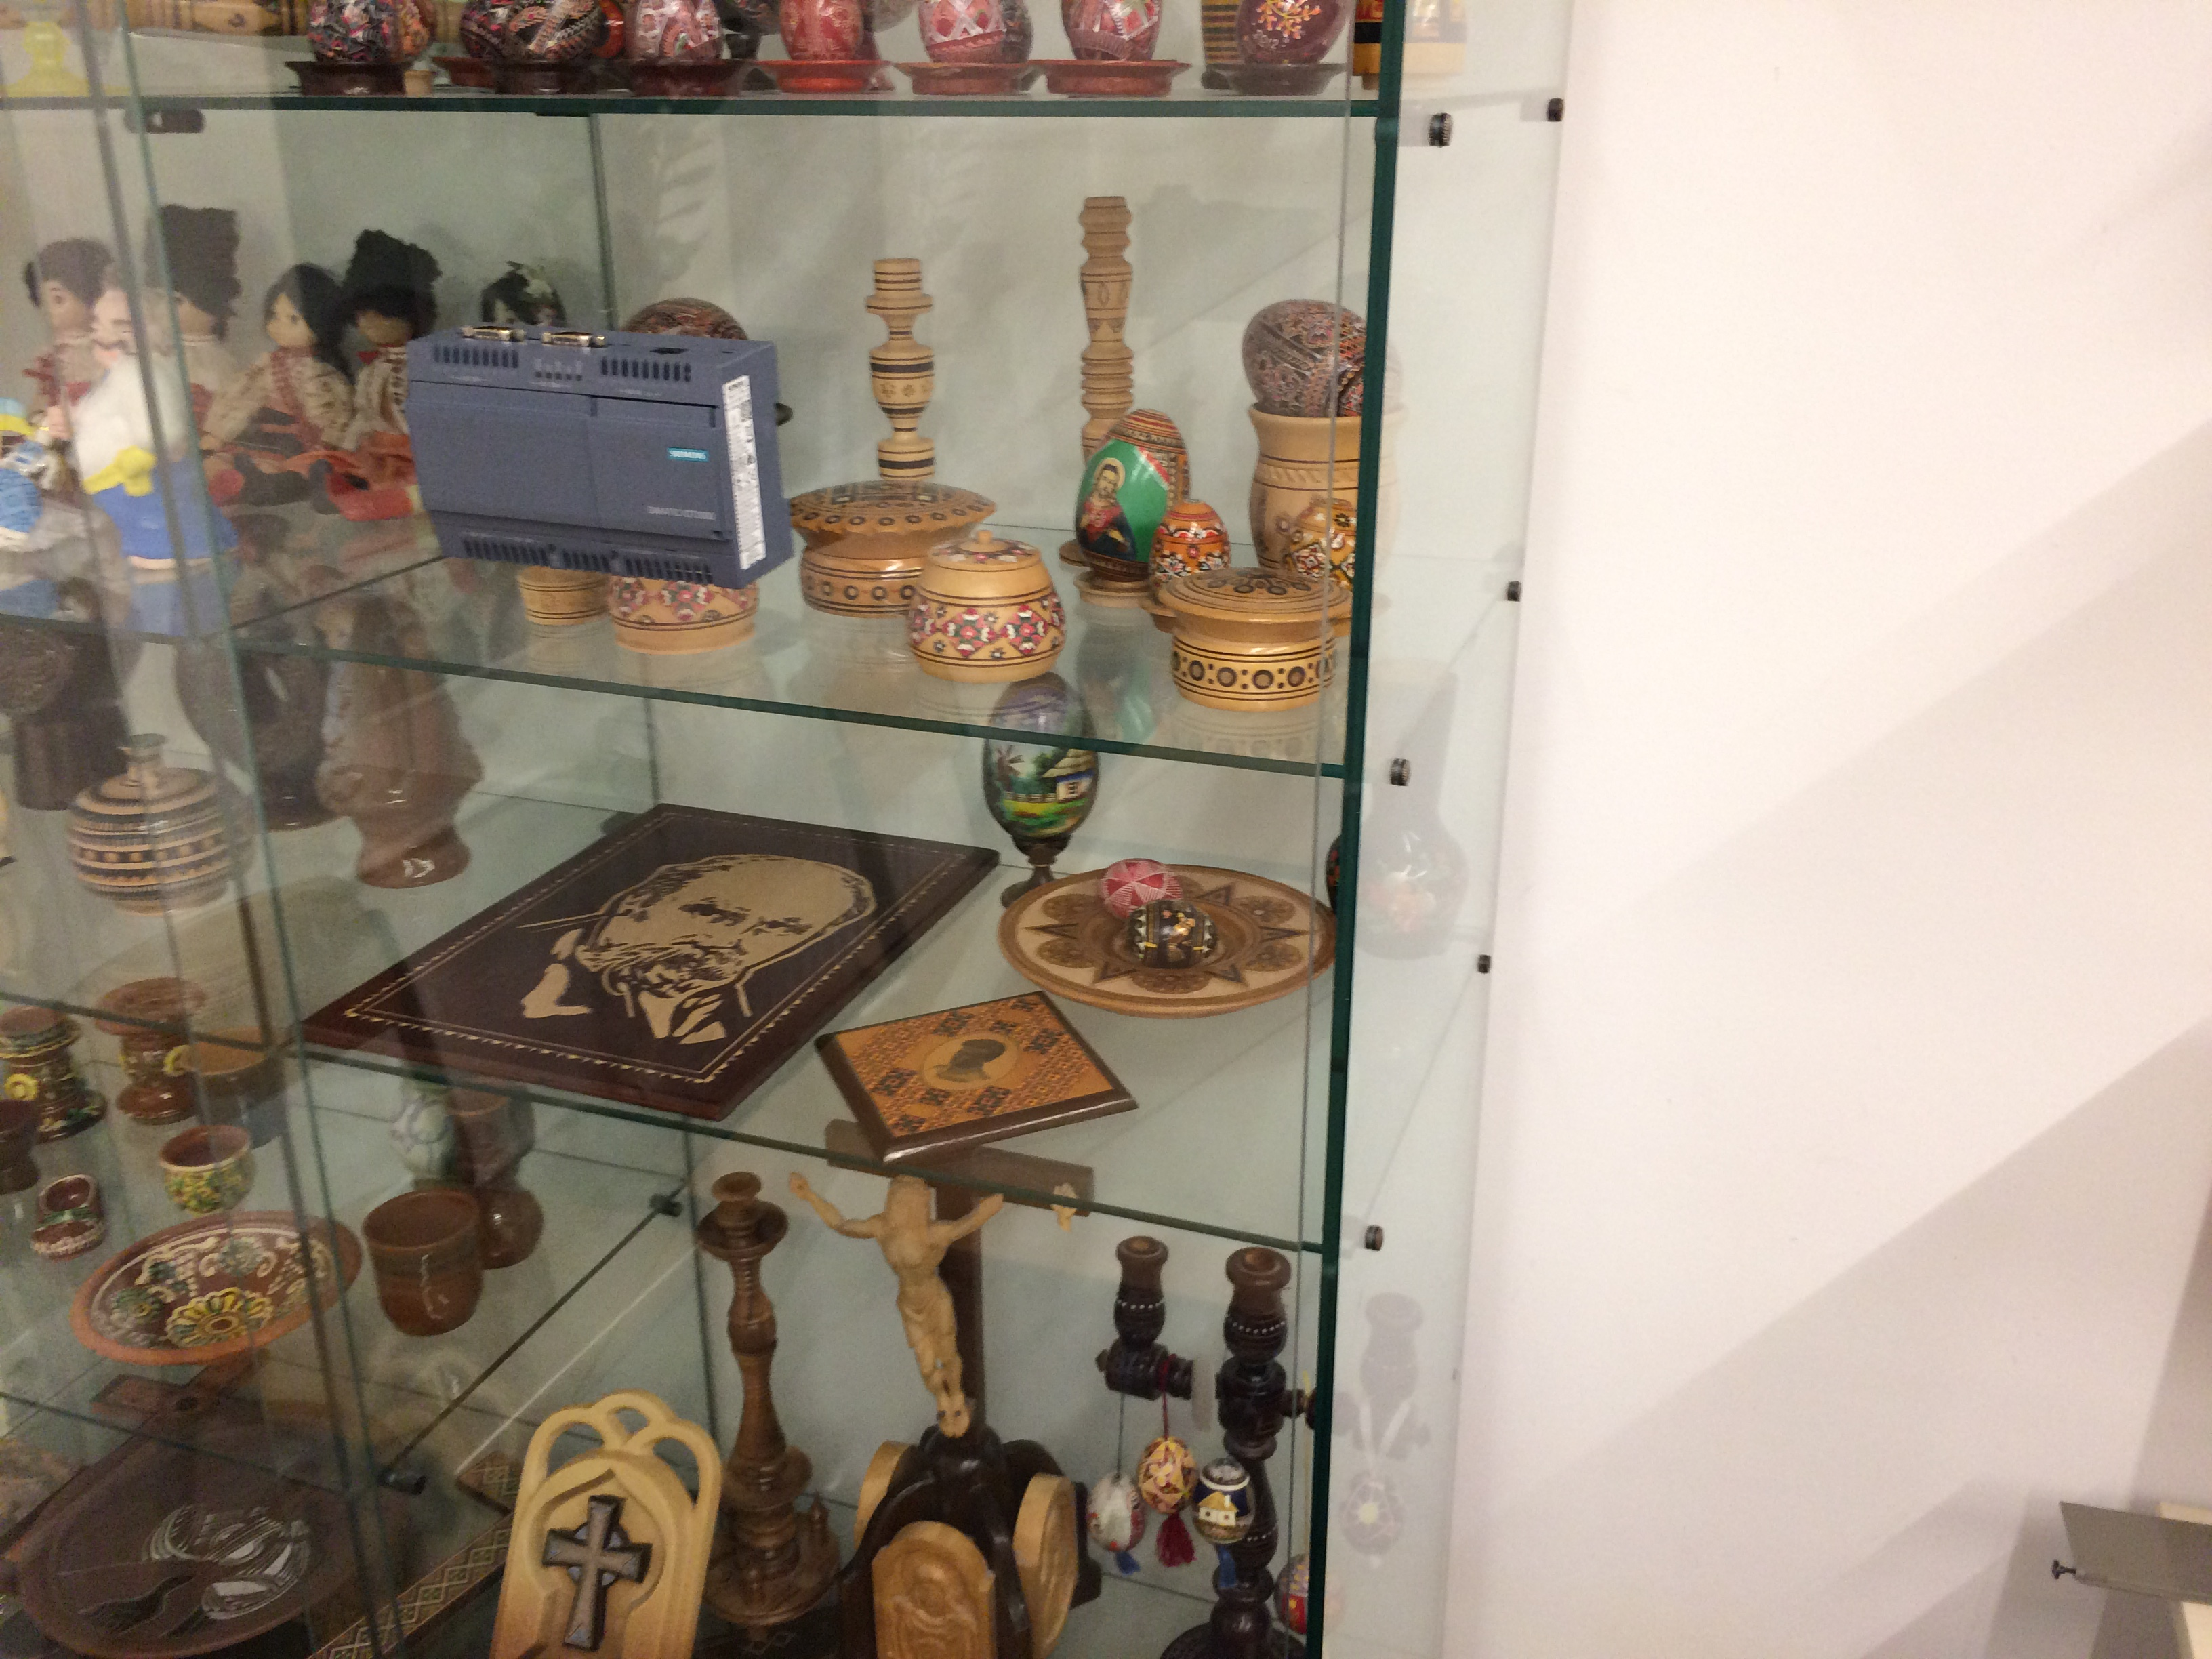iot2000: (402, 317, 799, 594)
